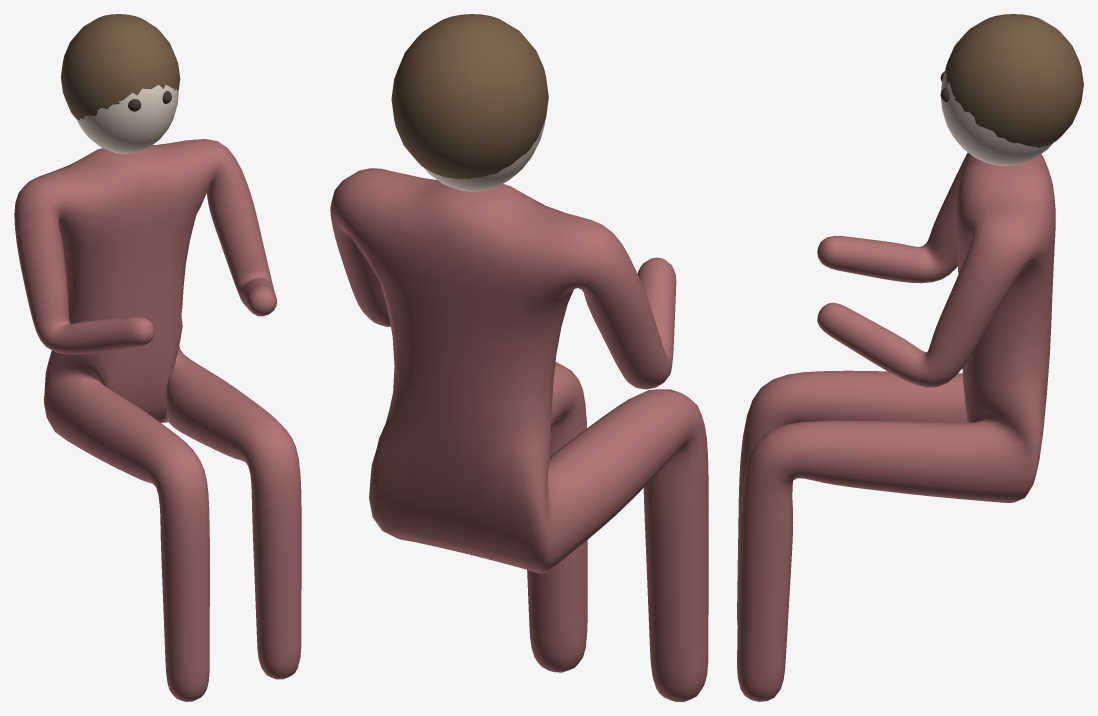
Rendered from mama.glb.
3 renders of one model, left to right at view 1: azimuth 30°, elevation 25°; view 2: azimuth 150°, elevation 25°; view 3: azimuth 270°, elevation 25°, orthographic. The views are drawn at different scales.
Visible parts, largest first — view 1: body, hair, head; view 2: body, hair, head; view 3: body, hair, head.
Part boxes in pixels (x1,y1,x2,y2): body: (14, 139, 301, 701); hair: (61, 14, 180, 119); head: (76, 84, 178, 153); body: (330, 168, 708, 701); hair: (391, 14, 548, 179); head: (423, 119, 545, 191); body: (737, 152, 1055, 701); hair: (945, 14, 1083, 147); head: (940, 72, 1052, 165).
Size of the model in its own units: 0.51 by 1.23 by 0.5915.
